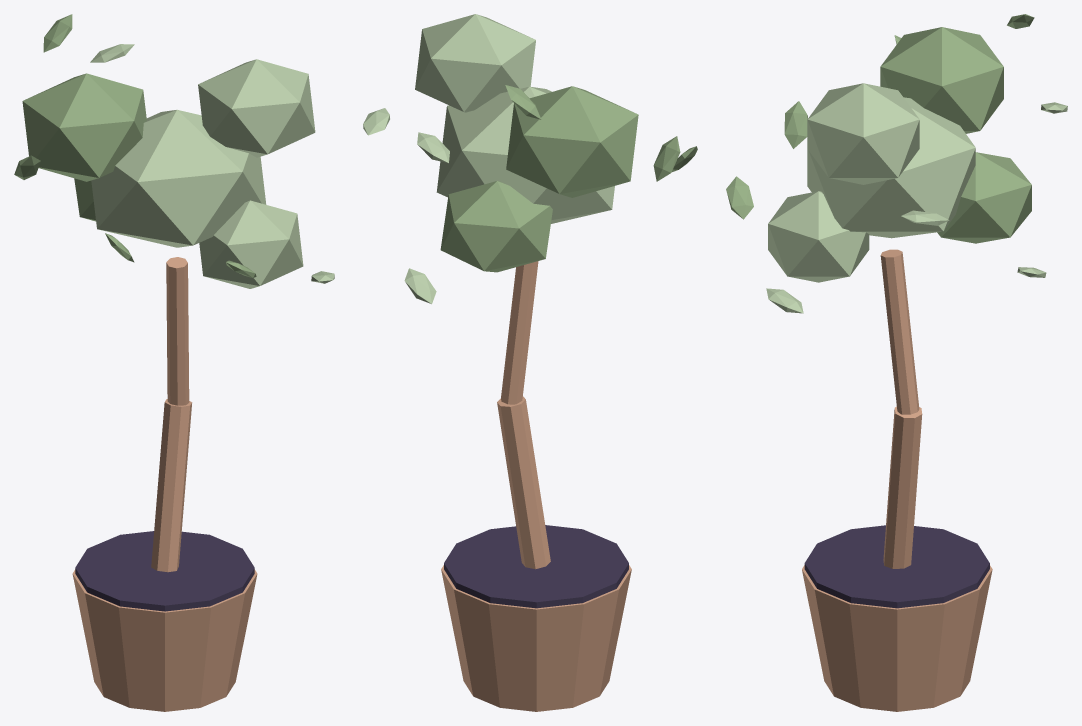
The model's file is deco_ficus_01.glb.
The picture shows the model from 3 angles, left to right: view 1: azimuth 30°, elevation 25°; view 2: azimuth 150°, elevation 25°; view 3: azimuth 270°, elevation 25°; orthographic projection. The views are drawn at different scales.
Parts seen in each view (by area): view 1: deco_ficus_01; view 2: deco_ficus_01; view 3: deco_ficus_01.
Boxes of the visible parts, <box> form: deco_ficus_01: <box>14,14,334,711</box>; deco_ficus_01: <box>363,14,697,711</box>; deco_ficus_01: <box>726,14,1067,711</box>.
Size of the model in its own units: 0.6272 by 1.28 by 0.6092.
